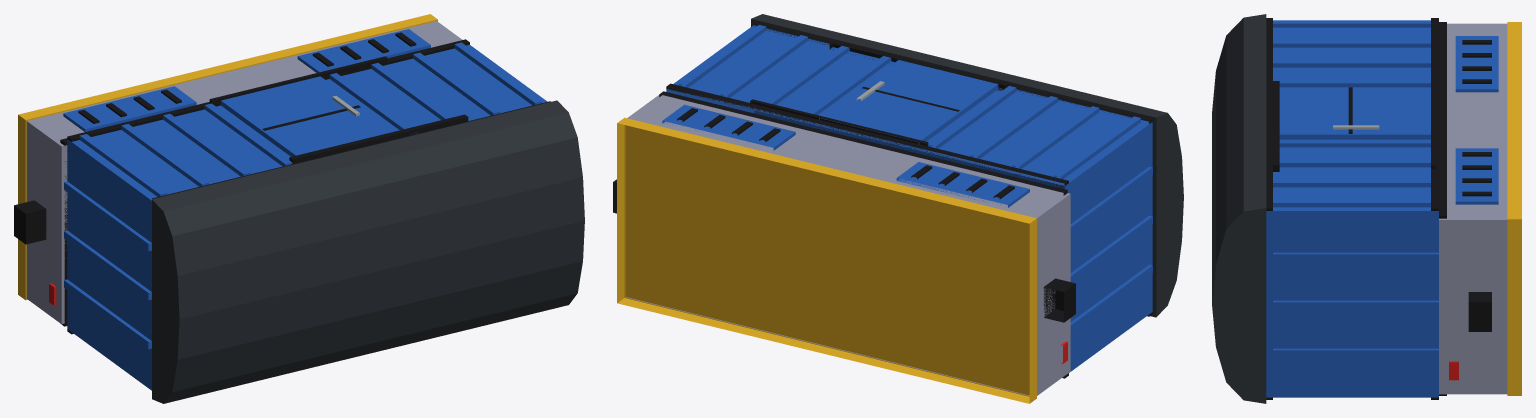
3 renders of one model, left to right at view 1: azimuth 30°, elevation 25°; view 2: azimuth 150°, elevation 25°; view 3: azimuth 270°, elevation 25°, orthographic.
Parts seen in each view (by area): view 1: default_roof, default_body, default_base, default_side1_-0.85_2.10, default_stripe, default_pod10, default_pod11, default_side1_-1.00_4.40, default_side1_-3.40_2.00, default_coupler-1, default_side1_-1.00_2.05, default_endrib-1-0.8 (+11 smaller); view 2: default_stripe, default_body, default_base, default_roof, default_side1_-0.85_2.10, default_side1_-3.40_2.00, default_pod10, default_pod11, default_base_lip, default_coupler-1, default_side1_3.14_2.12, default_side1_2.43_2.12 (+12 smaller); view 3: default_body, default_roof, default_base, default_side1_-0.85_2.10, default_stripe, default_pod11, default_pod10, default_endrib1-0.8, default_endrib10.0, default_endrib10.8, default_base_lip, default_side1_2.43_2.12 (+12 smaller).
Part boxes in pixels (bbox=[...]): default_roof: bbox=[152, 100, 584, 403]; default_body: bbox=[67, 44, 547, 390]; default_base: bbox=[26, 21, 462, 324]; default_side1_-0.85_2.10: bbox=[221, 76, 394, 156]; default_stripe: bbox=[18, 14, 437, 300]; default_pod10: bbox=[63, 86, 196, 131]; default_pod11: bbox=[297, 29, 430, 72]; default_side1_-1.00_4.40: bbox=[289, 114, 468, 163]; default_side1_-3.40_2.00: bbox=[67, 39, 469, 141]; default_coupler-1: bbox=[14, 200, 46, 244]; default_side1_-1.00_2.05: bbox=[209, 56, 387, 106]; default_endrib-1-0.8: bbox=[64, 279, 151, 349]; default_stripe: bbox=[617, 117, 1036, 403]; default_body: bbox=[666, 25, 1152, 374]; default_base: bbox=[625, 95, 1070, 395]; default_roof: bbox=[751, 14, 1183, 317]; default_side1_-0.85_2.10: bbox=[819, 60, 998, 144]; default_side1_-3.40_2.00: bbox=[666, 83, 1068, 185]; default_pod10: bbox=[896, 162, 1029, 207]; default_pod11: bbox=[662, 104, 795, 150]; default_base_lip: bbox=[659, 91, 1067, 375]; default_coupler-1: bbox=[1043, 278, 1075, 322]; default_side1_3.14_2.12: bbox=[678, 25, 766, 87]; default_side1_2.43_2.12: bbox=[720, 35, 807, 97]; default_body: bbox=[1266, 27, 1438, 397]; default_roof: bbox=[1212, 14, 1266, 403]; default_base: bbox=[1439, 23, 1507, 394]; default_side1_-0.85_2.10: bbox=[1279, 87, 1430, 139]; default_stripe: bbox=[1507, 22, 1521, 395]; default_pod11: bbox=[1455, 148, 1498, 204]; default_pod10: bbox=[1455, 36, 1498, 92]; default_endrib1-0.8: bbox=[1273, 348, 1438, 357]; default_endrib10.0: bbox=[1273, 300, 1438, 309]; default_endrib10.8: bbox=[1273, 252, 1438, 261]; default_base_lip: bbox=[1439, 22, 1446, 395]; default_side1_2.43_2.12: bbox=[1273, 179, 1430, 187].
Bounding box in the file's own units: 7.7 × 3.34 × 4.67.
